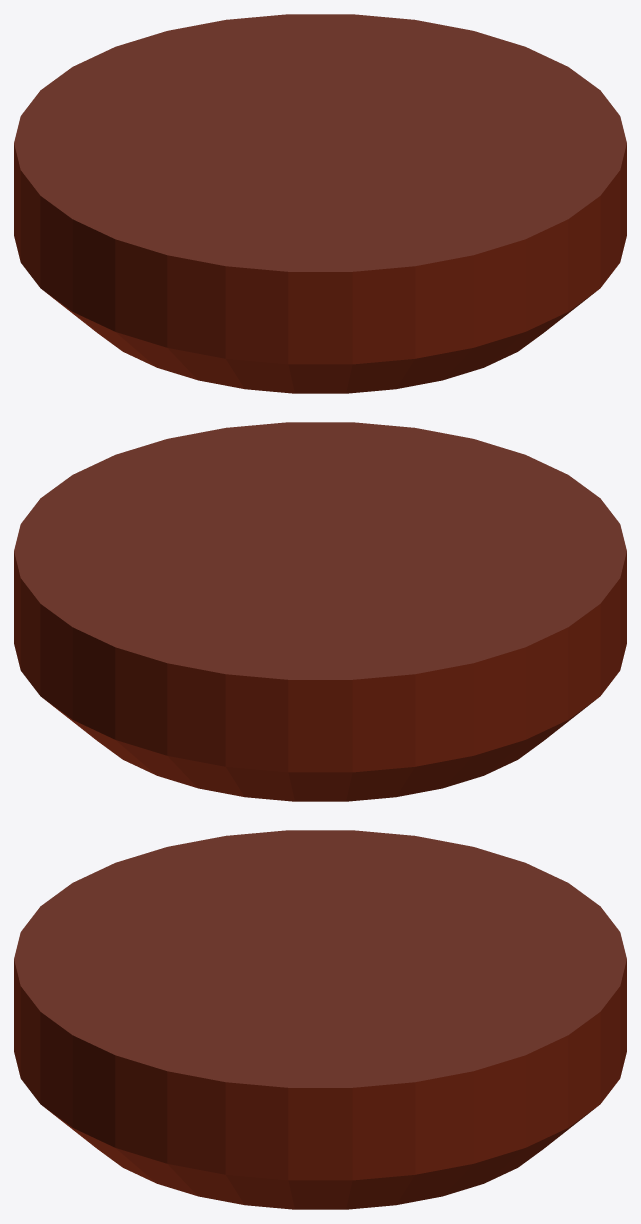
Rendered from CylindricalPlatform.fbx.
3 renders of one model, top to bottom at view 1: azimuth 30°, elevation 25°; view 2: azimuth 150°, elevation 25°; view 3: azimuth 270°, elevation 25°, orthographic.
Visible parts, largest first — view 1: Cylinder; view 2: Cylinder; view 3: Cylinder.
Boxes of the visible parts, <box> form: Cylinder: <box>14,14,626,393</box>; Cylinder: <box>14,422,626,801</box>; Cylinder: <box>14,830,626,1209</box>.
Bounding box in the file's own units: 597 × 160 × 600.
